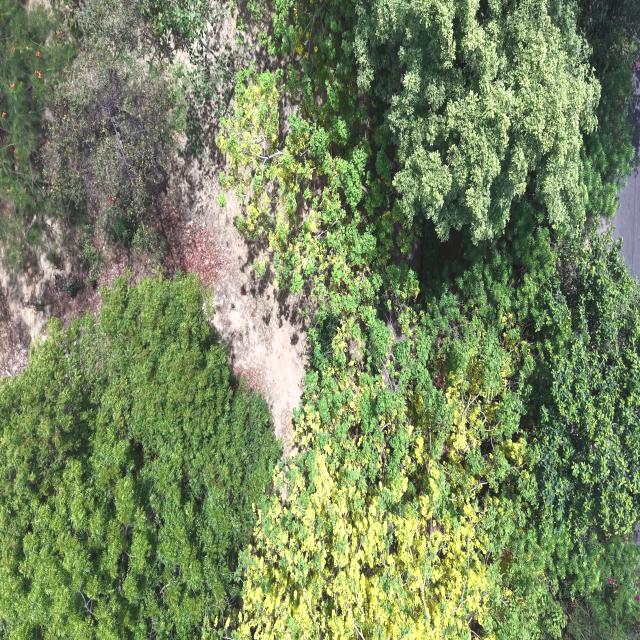DRY_AREA: (161, 106, 310, 453), (171, 114, 309, 452), (164, 181, 308, 452), (173, 162, 308, 441), (203, 194, 307, 449), (0, 241, 153, 375), (0, 221, 98, 375), (0, 219, 75, 351), (0, 254, 55, 375), (612, 160, 639, 279), (0, 277, 31, 375), (613, 166, 639, 278)
VEGETATION_TREE: (0, 0, 639, 639), (220, 2, 639, 639), (0, 275, 278, 639), (445, 214, 639, 596), (0, 0, 235, 282), (355, 0, 600, 239), (0, 1, 183, 277), (45, 0, 183, 278), (0, 0, 71, 269), (579, 0, 639, 224), (142, 0, 242, 116), (564, 537, 638, 639)
